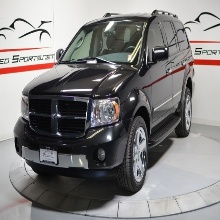no damage: (14, 11, 195, 192)
